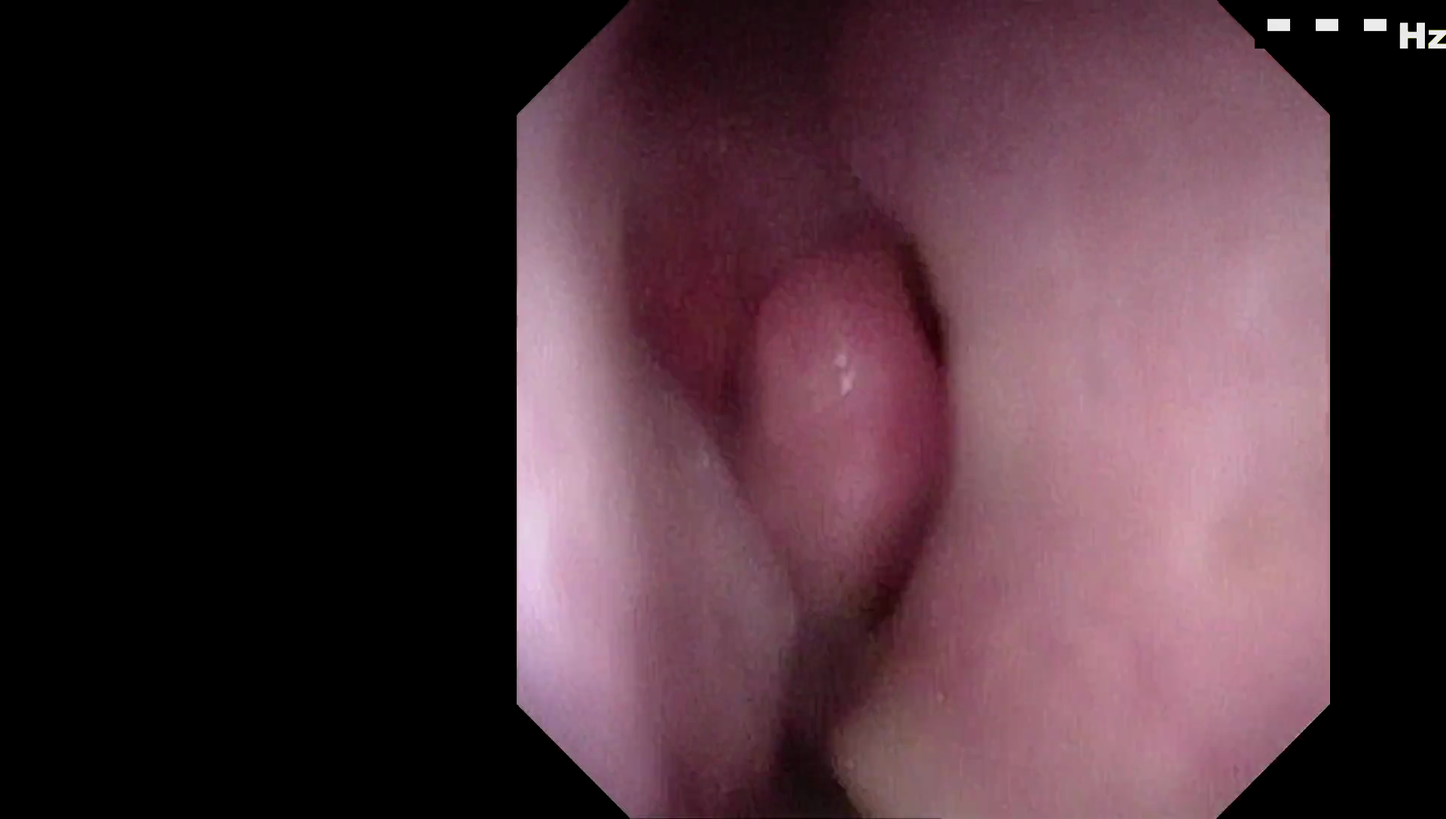close_wall: (521, 129, 679, 699)
next: (621, 0, 870, 153), (702, 648, 868, 819)
